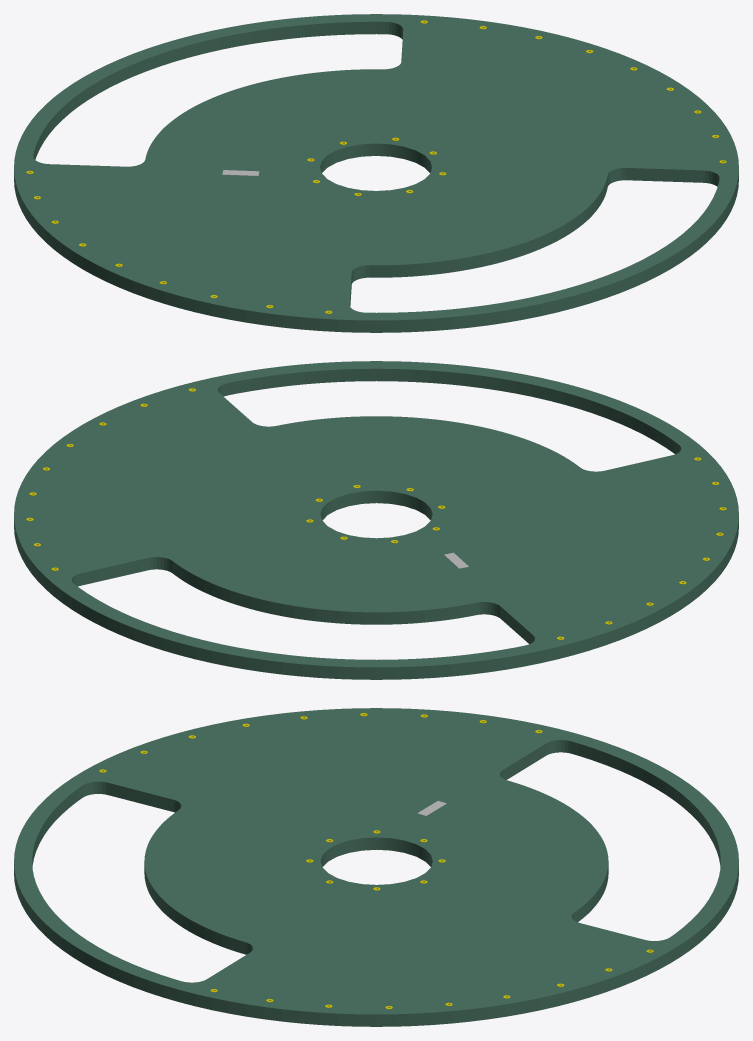
The model's file is USTTHUNDERMILLPCB04.glb.
3 views of the same model, one above another, from view 1: azimuth 30°, elevation 25°; view 2: azimuth 150°, elevation 25°; view 3: azimuth 270°, elevation 25° (orthographic).
Visible parts, largest first — view 1: =>[0:1:1:5], =>[0:1:1:2]; view 2: =>[0:1:1:5], =>[0:1:1:2]; view 3: =>[0:1:1:5], =>[0:1:1:2].
Part boxes in pixels (box(x1,y1,x2,y2)): =>[0:1:1:5]: box(14, 14, 738, 332); =>[0:1:1:2]: box(26, 20, 726, 313); =>[0:1:1:5]: box(14, 361, 738, 679); =>[0:1:1:2]: box(26, 388, 726, 639); =>[0:1:1:5]: box(14, 708, 738, 1026); =>[0:1:1:2]: box(99, 713, 653, 1009).
Bounding box in the file's own units: 0.08 × 0.00159 × 0.08.
